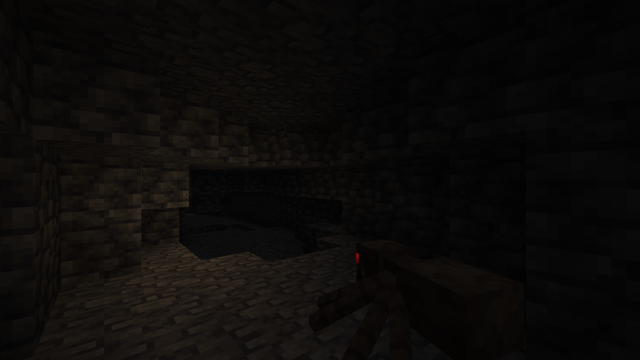araignees: (316, 229, 505, 359)
